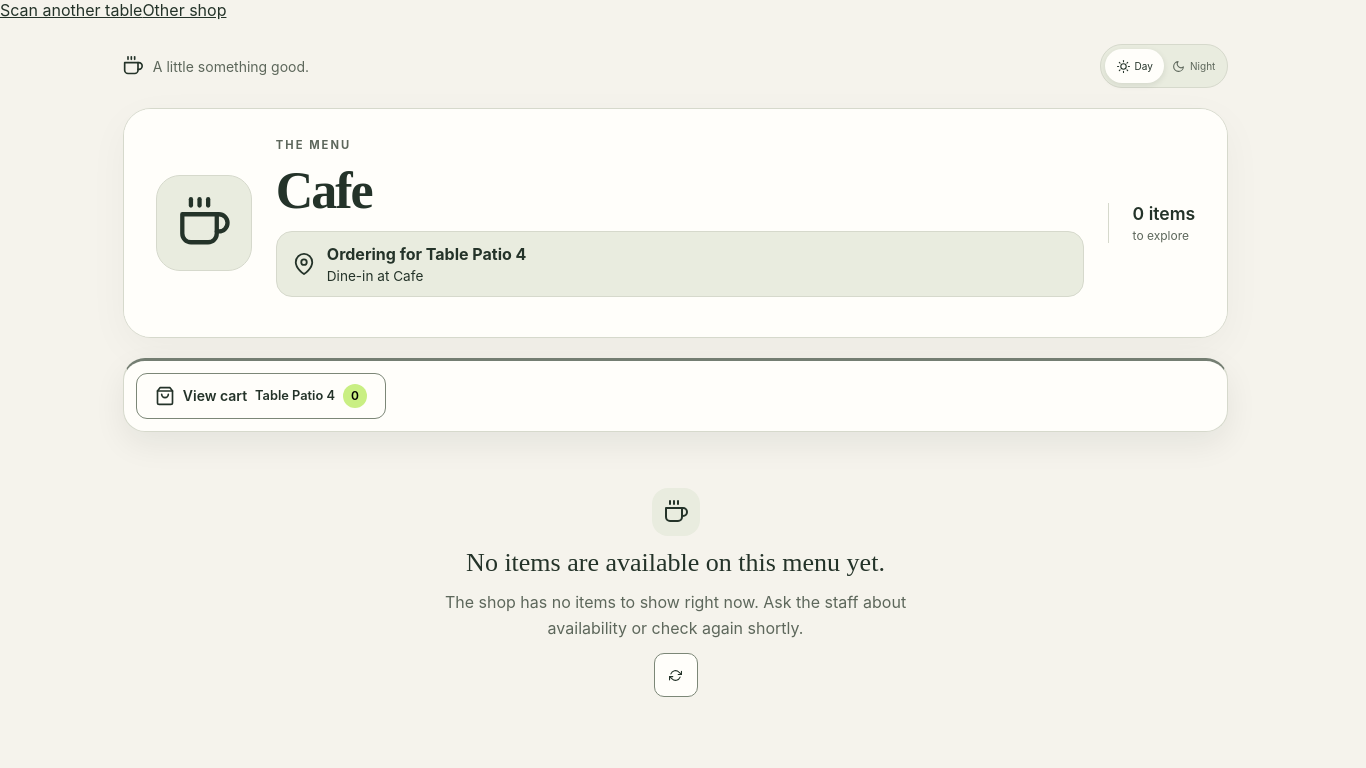
Scenario: scanning opens the table menu and carries the context into the cart and prepared checkout
Expected: the heading "Cafe" is shown, [276, 162, 371, 219]
Expected: the text "Ordering for Table Patio 4" is shown, [327, 244, 526, 264]
Click the button with aria-label "View cart (0)".
click(261, 396)  # box [136, 373, 386, 419]
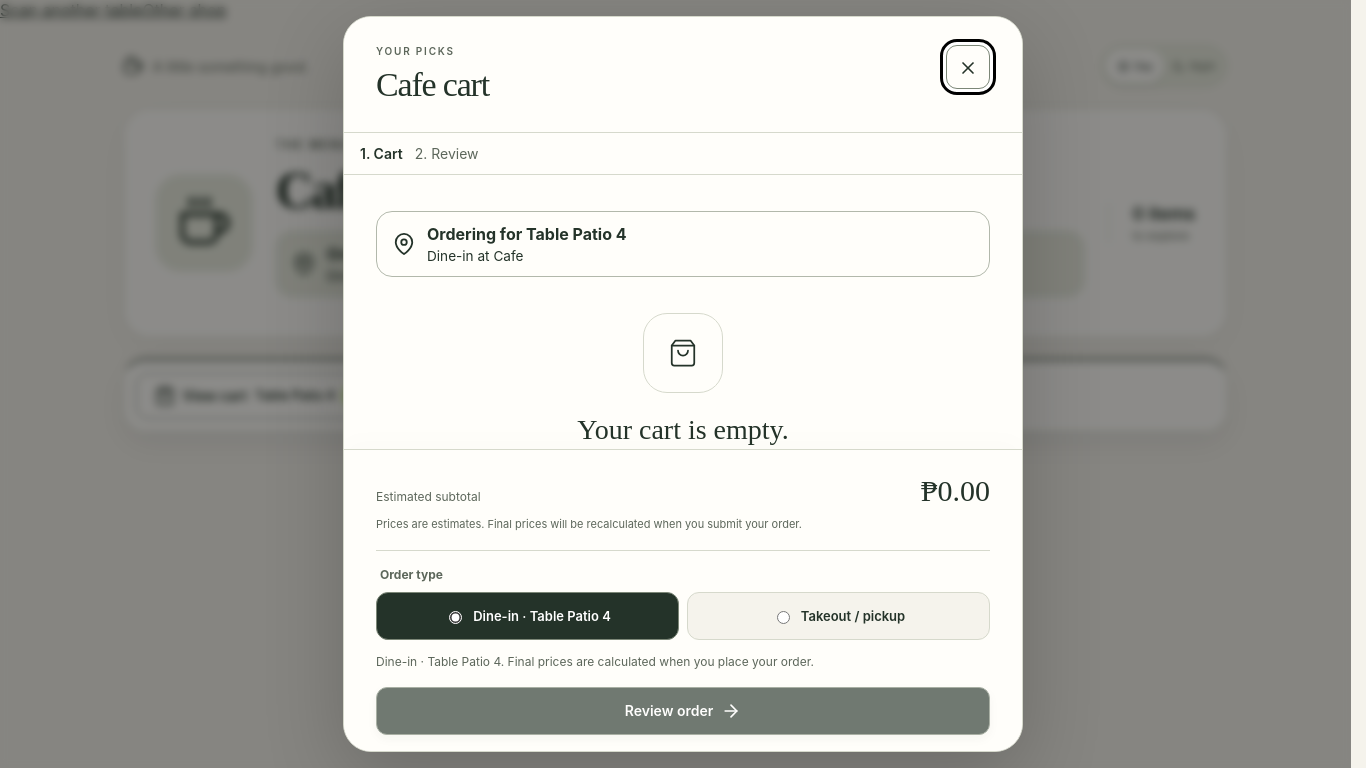
Now the text "Ordering for Table Patio 4" is shown, box [427, 224, 627, 244]
